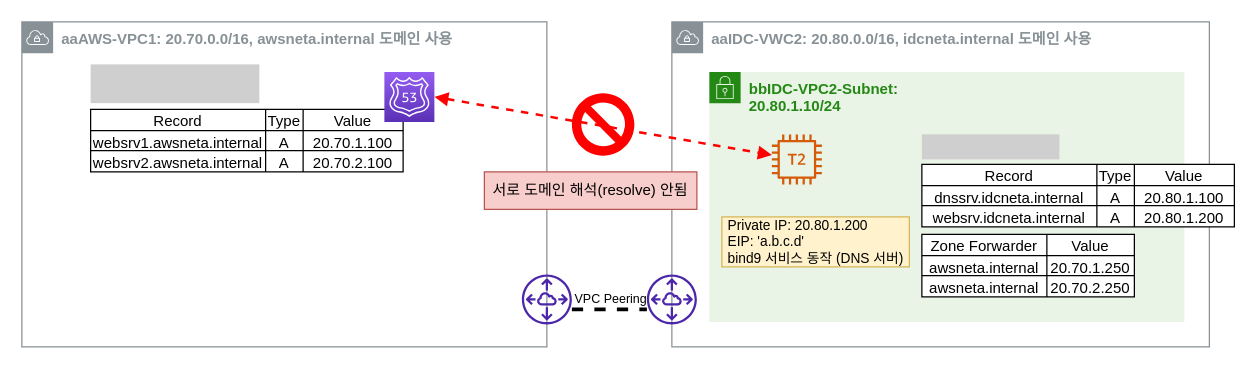
The diagram is 1256 pixels wide and 369 high, and some of its shapes have lost their labels. Each missing label, with the centre of its shape:
"bbawsnetadomain (Private Hosted Zones)" goes at (174,83).
"bbIDC-DNSSRV" goes at (796,159).
"Private Hosted Zones" goes at (990,146).
